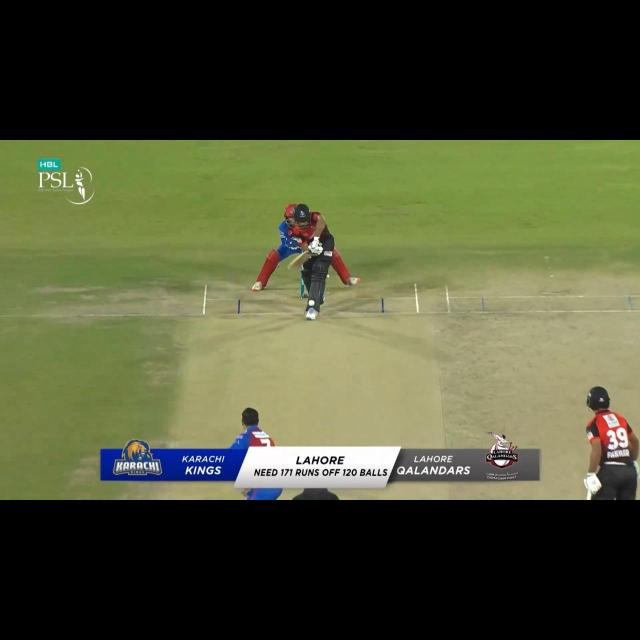bat: (286, 250, 311, 271)
toe: (286, 264, 299, 270)
